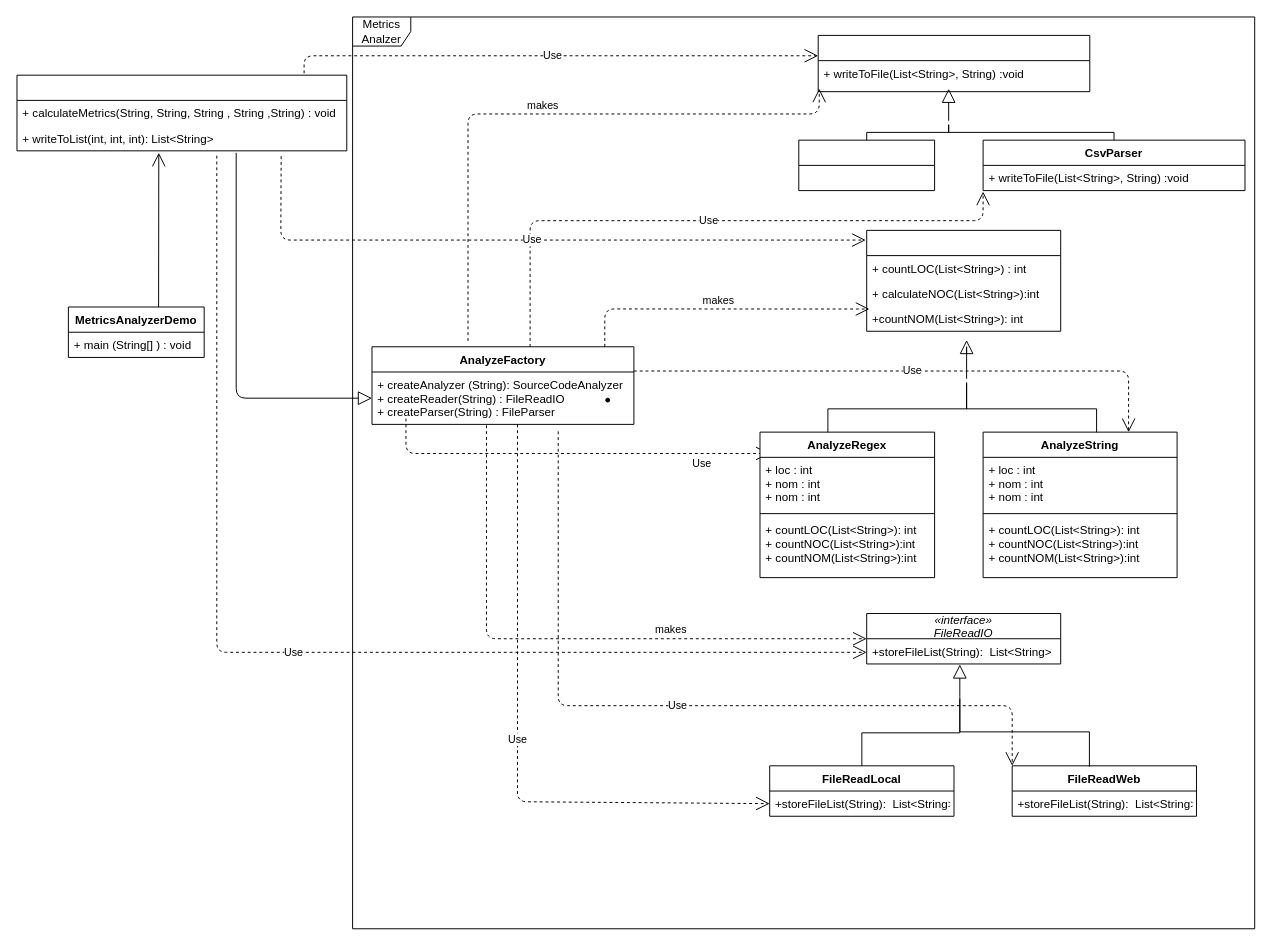
Image size: 1272x946. Some labels were removed from this diagram. The shapes that lost their labels are listed below. From the top down, each one's box as (x1, y1, x2, y2) in pixels, then its label:
(817, 34, 1090, 92): «interface» FileParser
(16, 74, 347, 151): MetricsAnalyzer
(798, 139, 935, 191): JsonParser
(866, 229, 1061, 331): «interface» SourceCodeAnalyze
